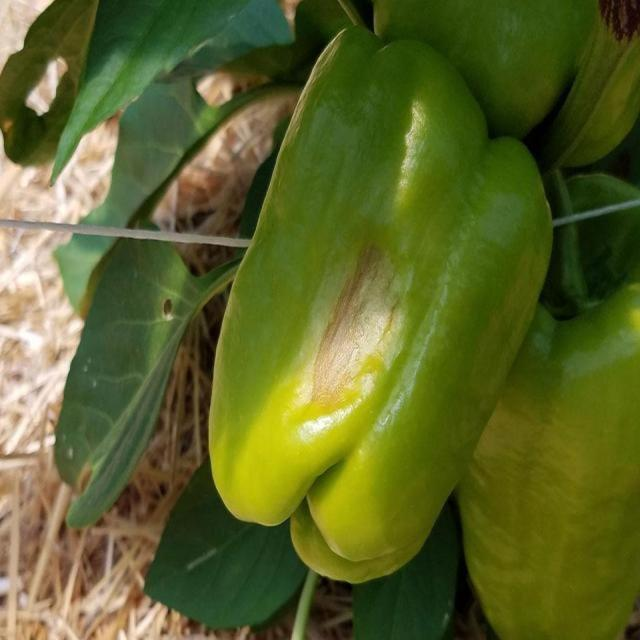Sunscald Fruit: (204, 157, 278, 273)
